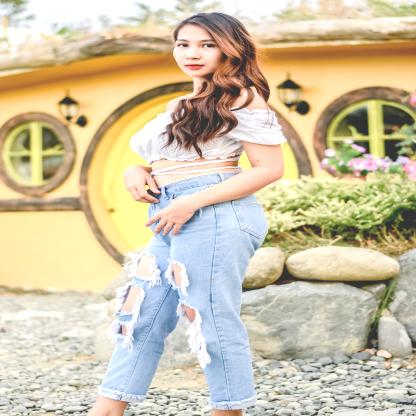jacket: (132, 108, 286, 170)
